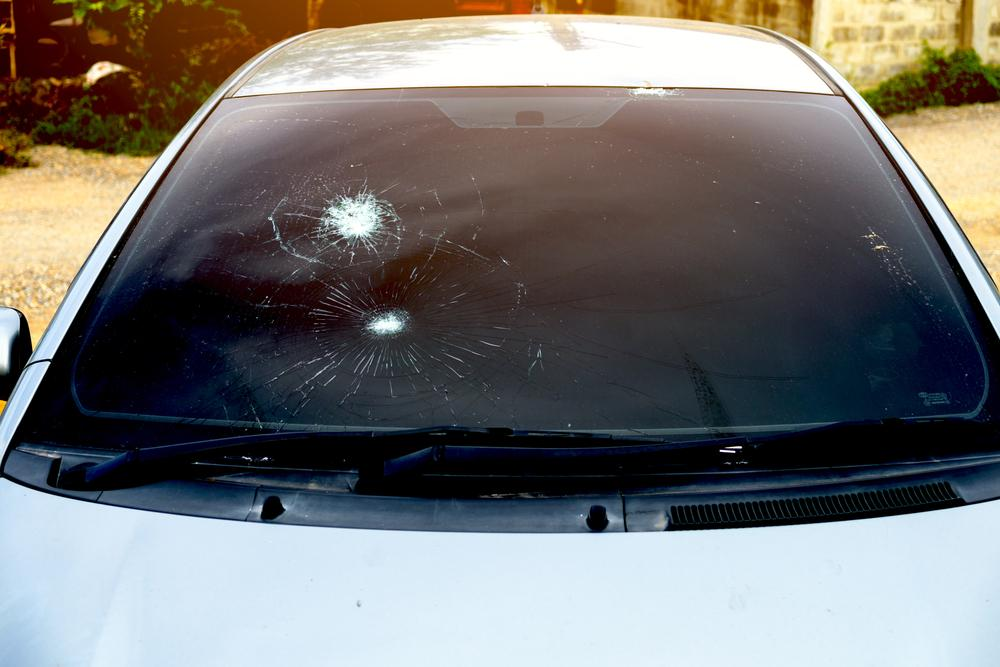glass shatter: (18, 86, 1000, 452)
